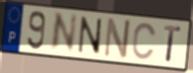9: (27, 10, 47, 51)
C: (131, 21, 158, 61)
N: (102, 16, 132, 60), (48, 12, 79, 53), (77, 15, 103, 57)
T: (163, 24, 182, 64)
